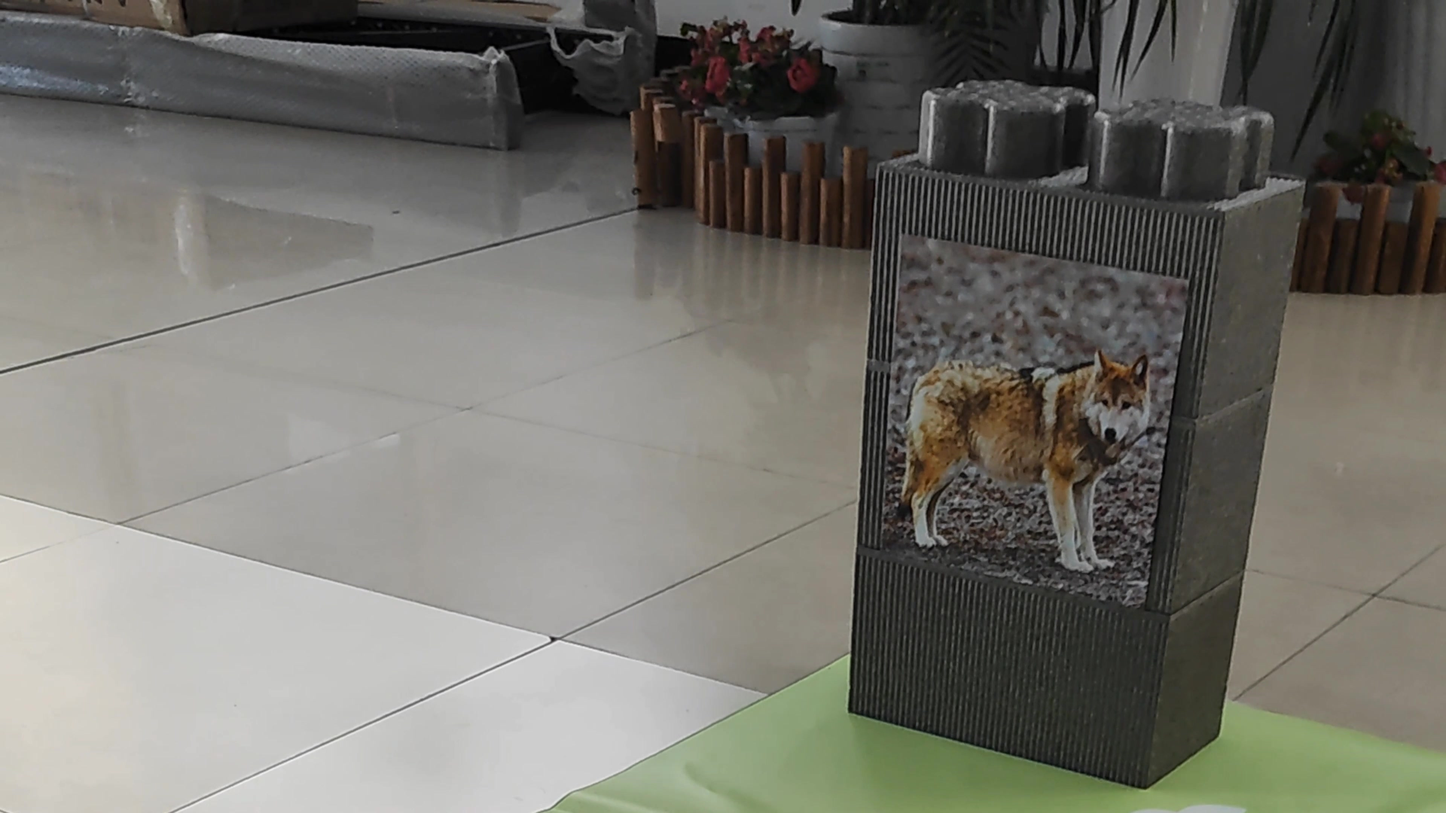wolf: (870, 318, 1163, 607)
